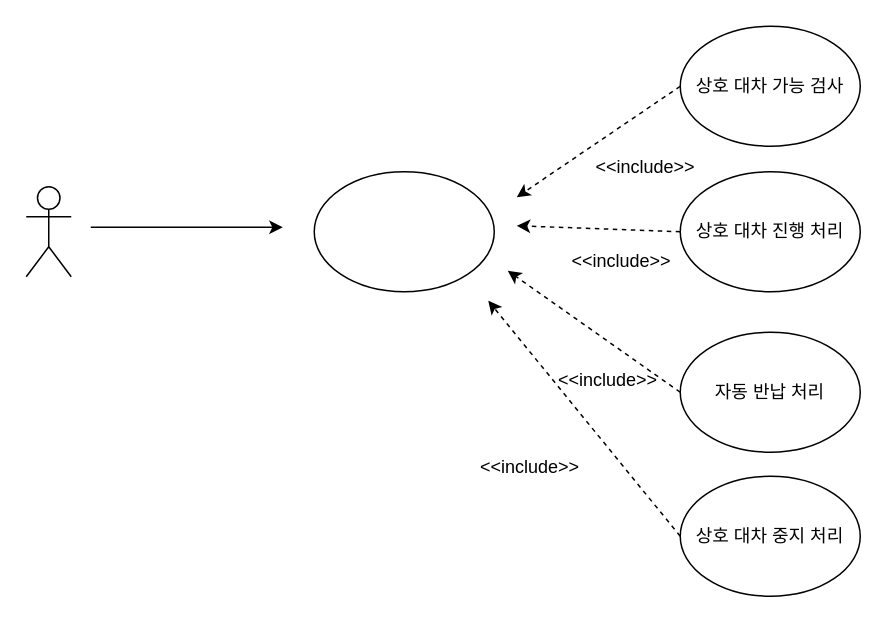
Some shapes in this 887 by 623 pixel diagram are drawn without their labels. The shapes that lost their labels are listed below. From the top down, each one's centre as x and y in pixels, then its label:
At point (48, 231): "회원".
At point (403, 231): "상호 대차 신청".
